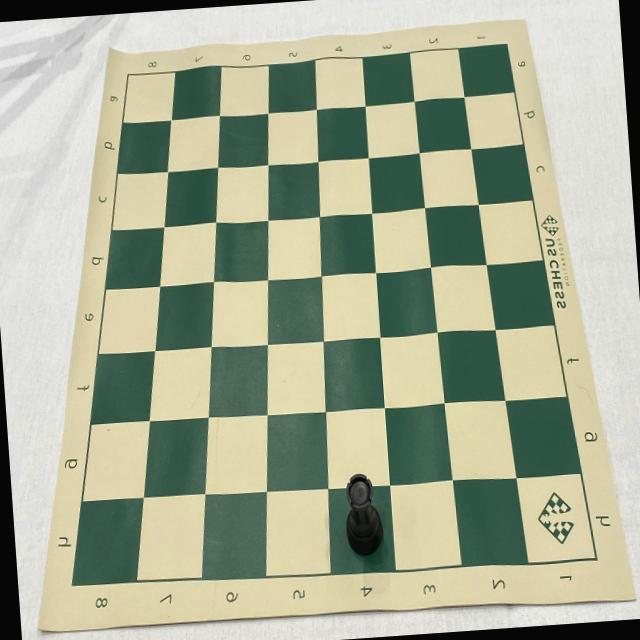black-rook: (340, 471, 386, 558)
